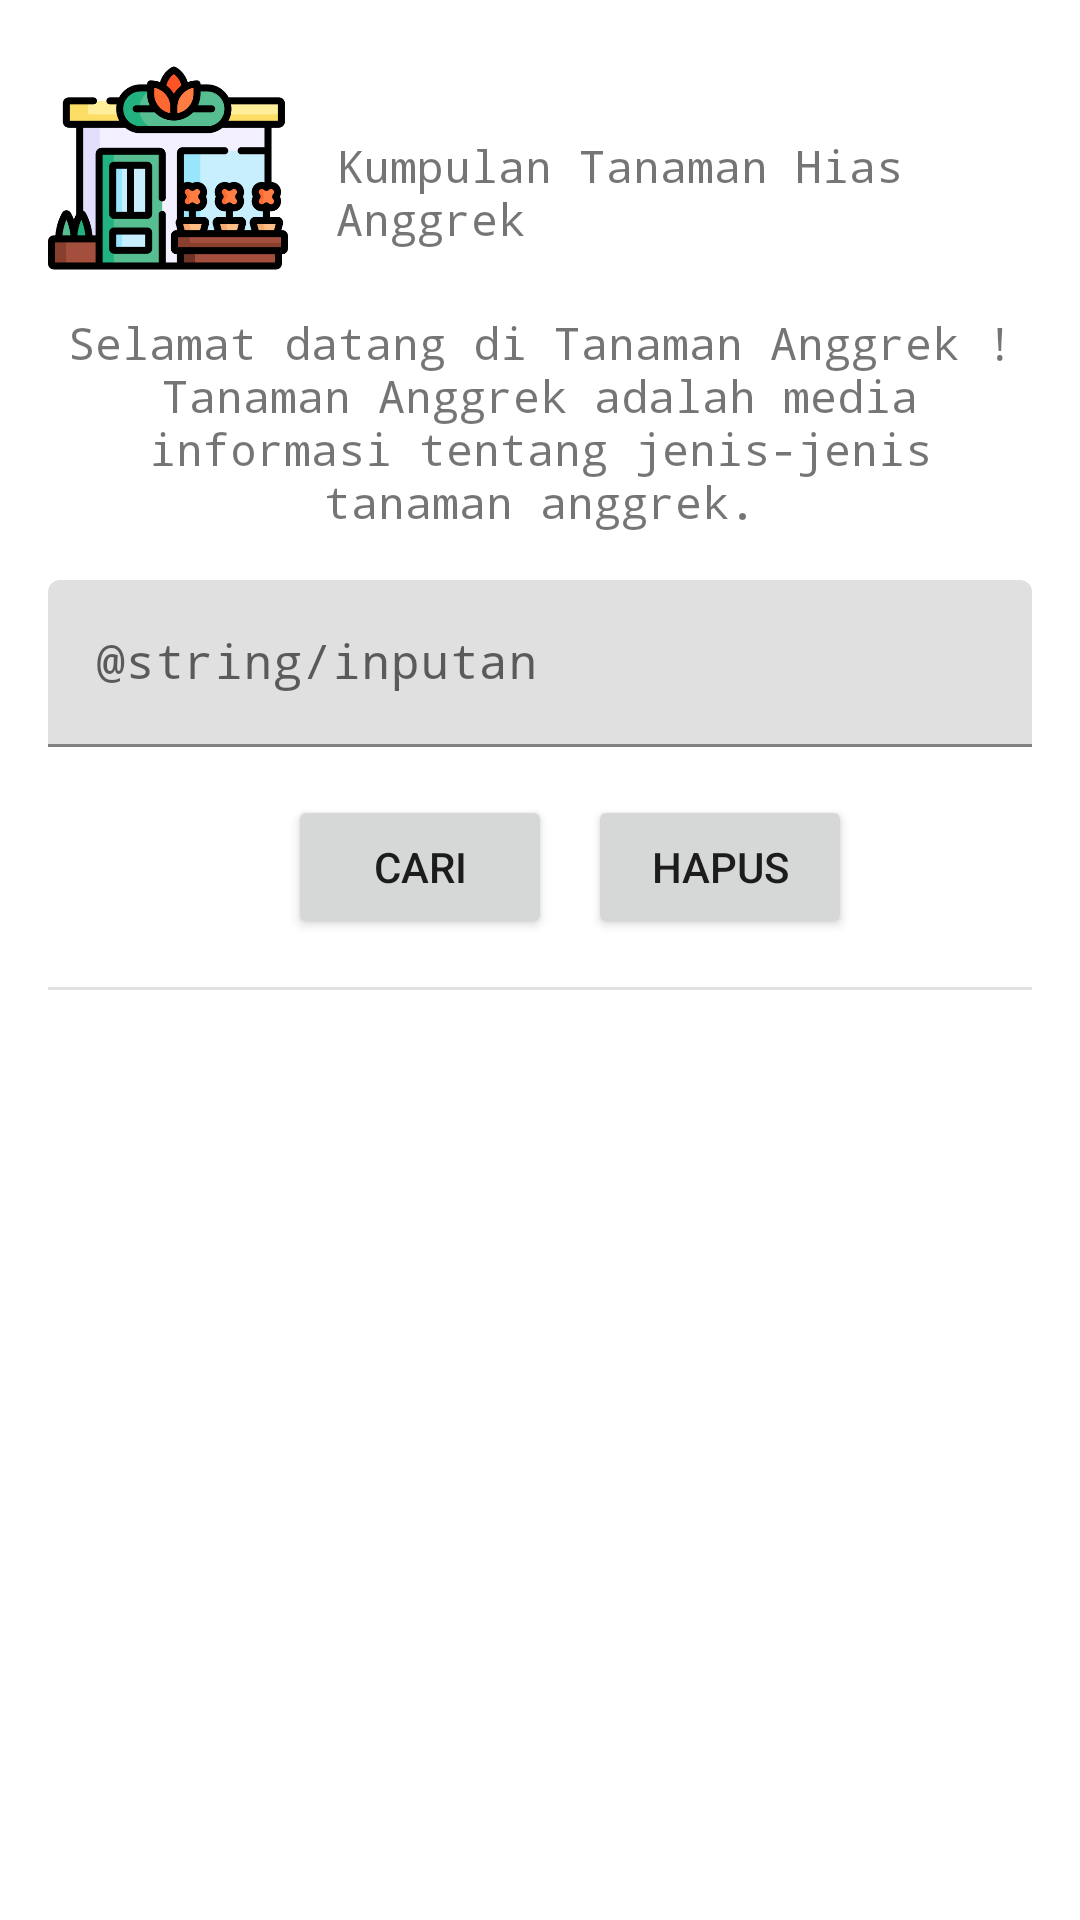

Where to tap for icons on this 1080×1920 app screen, as (x=x, y=y):
florist: (x=168, y=168)
